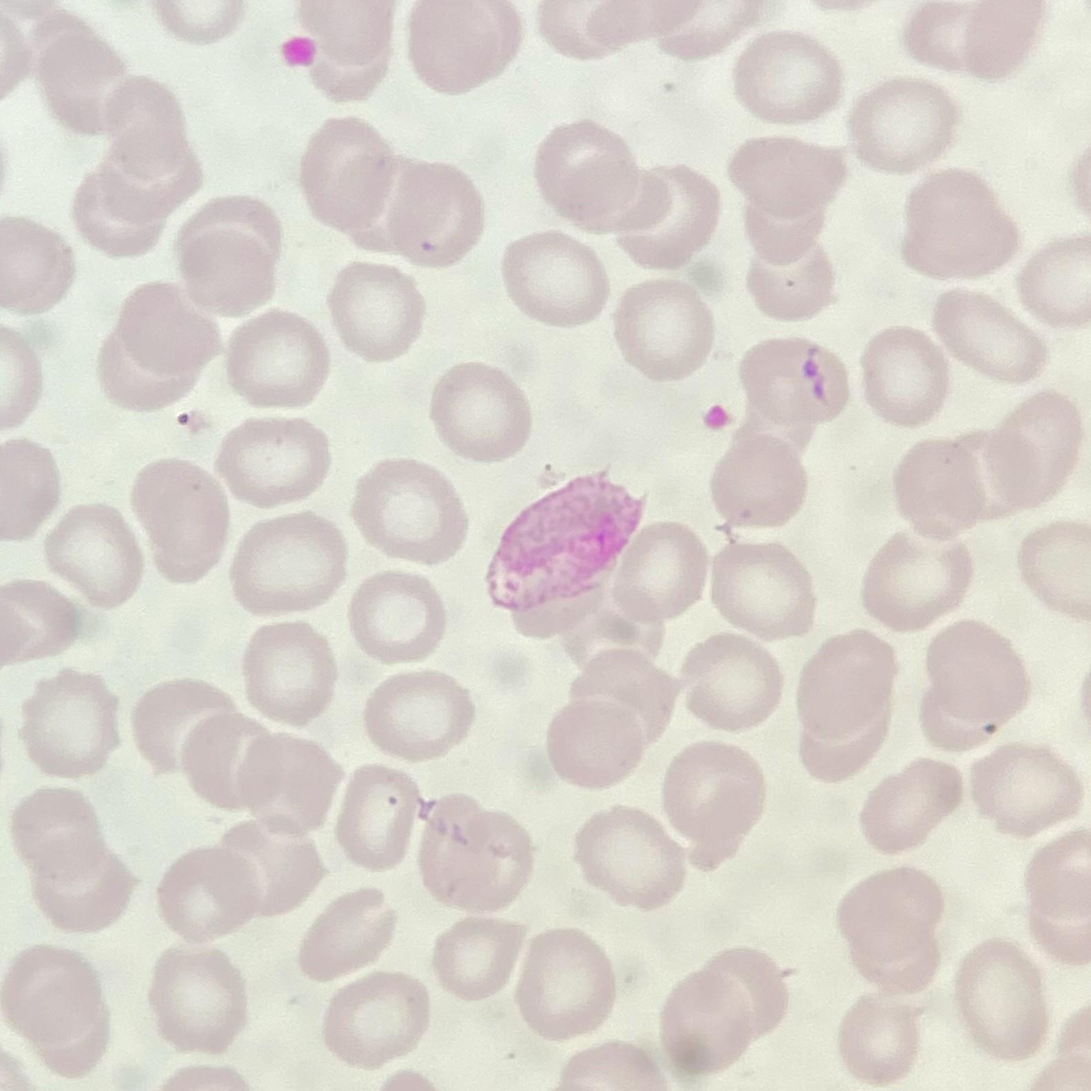Infected: (487, 474, 644, 613)
Uninfected: (131, 455, 230, 587), (351, 455, 469, 565), (570, 807, 690, 913), (790, 635, 903, 745), (662, 742, 771, 854), (951, 933, 1050, 1056), (230, 510, 348, 613), (926, 288, 1050, 383), (735, 334, 851, 435), (861, 529, 971, 635), (701, 540, 813, 641), (518, 927, 616, 1041), (928, 614, 1032, 720), (179, 703, 280, 812), (845, 79, 960, 174), (361, 667, 478, 760), (18, 674, 120, 780), (616, 166, 717, 273), (32, 830, 134, 935), (969, 740, 1081, 835), (680, 632, 785, 733), (41, 501, 142, 606), (115, 283, 226, 378), (294, 880, 397, 982), (299, 120, 399, 225), (0, 942, 100, 1047), (427, 363, 533, 462), (326, 968, 434, 1065), (133, 676, 241, 773), (733, 28, 842, 124), (241, 621, 339, 727), (990, 391, 1081, 505), (611, 275, 715, 374), (99, 69, 190, 181), (857, 759, 967, 850), (505, 232, 609, 328), (708, 432, 809, 530), (147, 949, 248, 1047), (533, 118, 636, 214), (836, 869, 945, 959), (896, 435, 986, 543), (662, 965, 752, 1072), (407, 0, 506, 97), (427, 910, 532, 1001), (393, 161, 482, 268), (546, 697, 647, 791), (156, 846, 256, 940), (857, 327, 949, 429), (331, 765, 421, 869), (333, 263, 429, 360), (230, 315, 329, 409), (613, 522, 706, 622), (218, 419, 326, 505), (937, 430, 1032, 527), (99, 322, 201, 411), (733, 136, 846, 216), (181, 229, 282, 315), (354, 575, 447, 668), (832, 988, 923, 1082), (103, 131, 201, 216), (292, 0, 399, 75), (1022, 517, 1091, 624), (1015, 232, 1091, 327), (16, 791, 100, 876), (749, 239, 842, 314), (0, 435, 63, 545)
